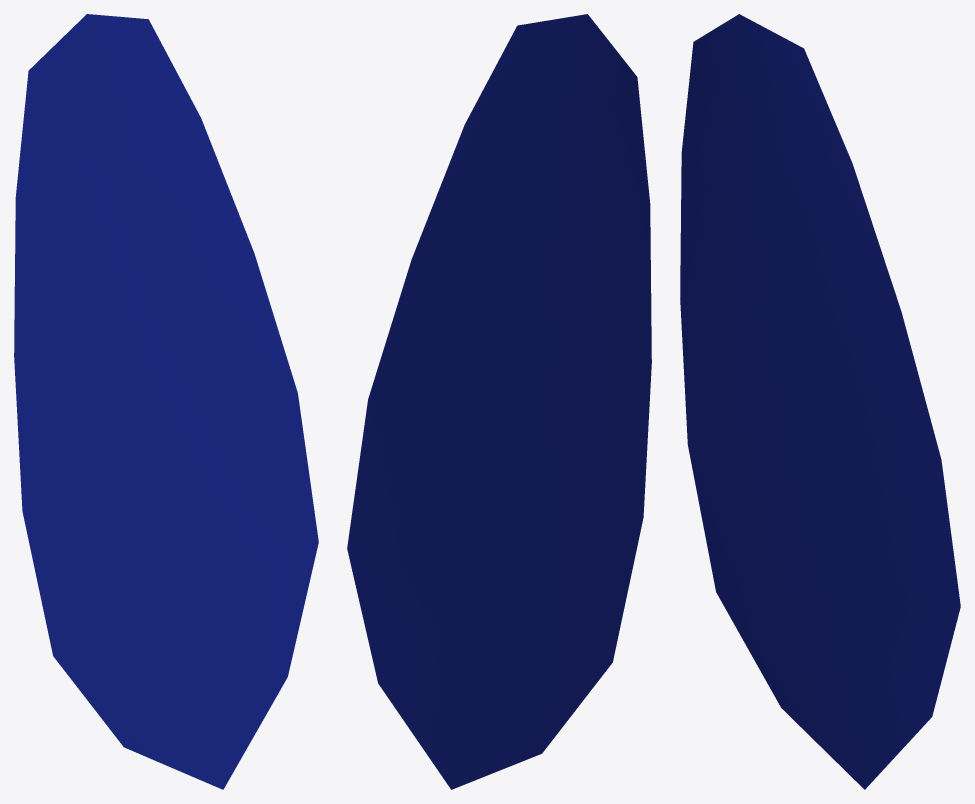
Rendered from lovebird_feather_flight_secondary_008.001.obj.
3 renders of one model, left to right at view 1: azimuth 30°, elevation 25°; view 2: azimuth 150°, elevation 25°; view 3: azimuth 330°, elevation 25°, orthographic. The views are drawn at different scales.
Visible parts, largest first — view 1: feather_flight_secondary_008.001; view 2: feather_flight_secondary_008.001; view 3: feather_flight_secondary_008.001.
Part boxes in pixels (box(x1,y1,x2,y2)): feather_flight_secondary_008.001: box(14, 14, 318, 789); feather_flight_secondary_008.001: box(347, 14, 651, 789); feather_flight_secondary_008.001: box(680, 14, 960, 789).
Bounding box in the file's own units: 0.00647 × 0.0164 × 0.00016.
